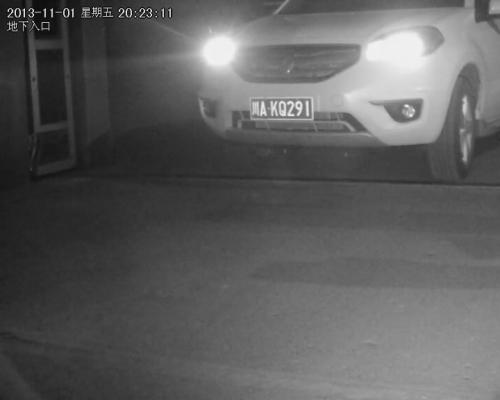Carplate: (246, 91, 319, 126)
